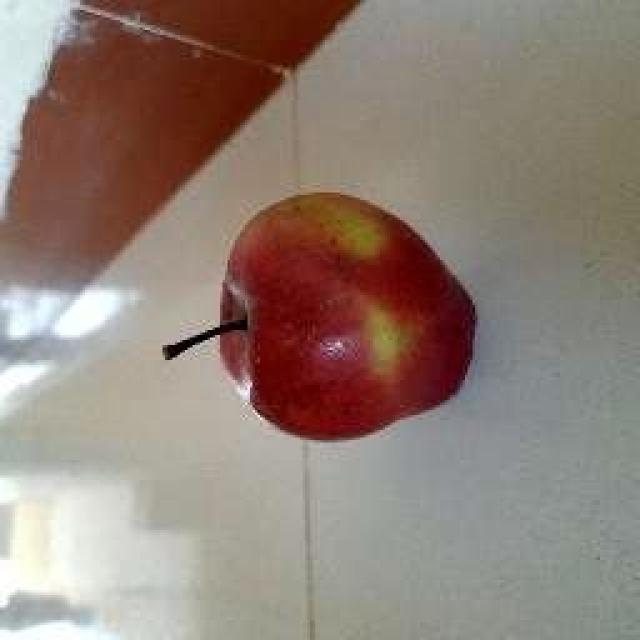Good_Apple: (164, 192, 476, 439)
